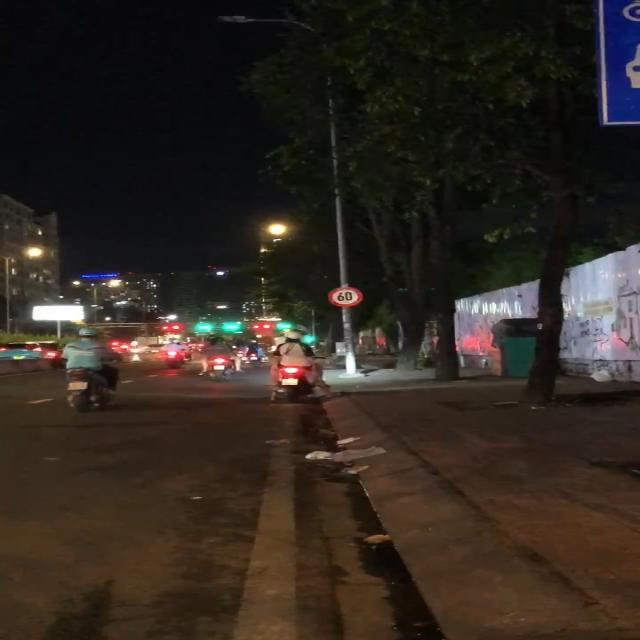Bien bao toc do toi da cho phep: (324, 284, 368, 310)
